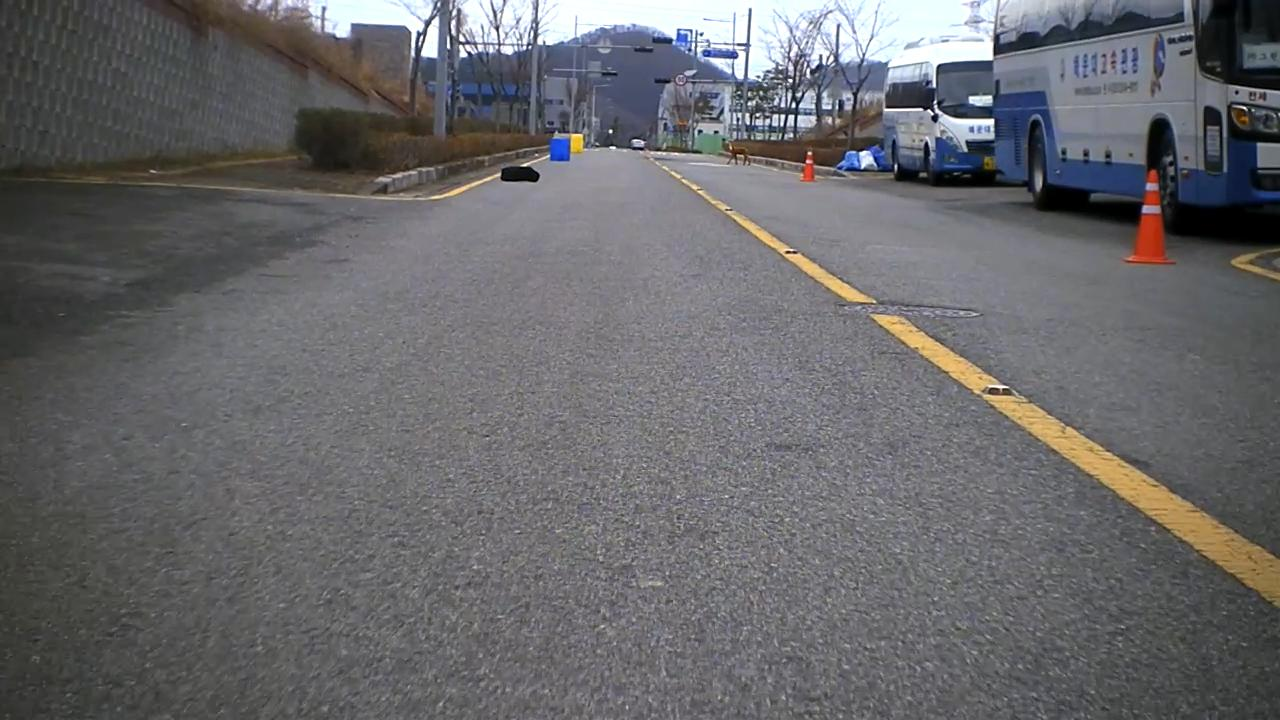stone: (498, 166, 541, 183)
trash: (843, 149, 859, 171), (861, 150, 877, 172)
